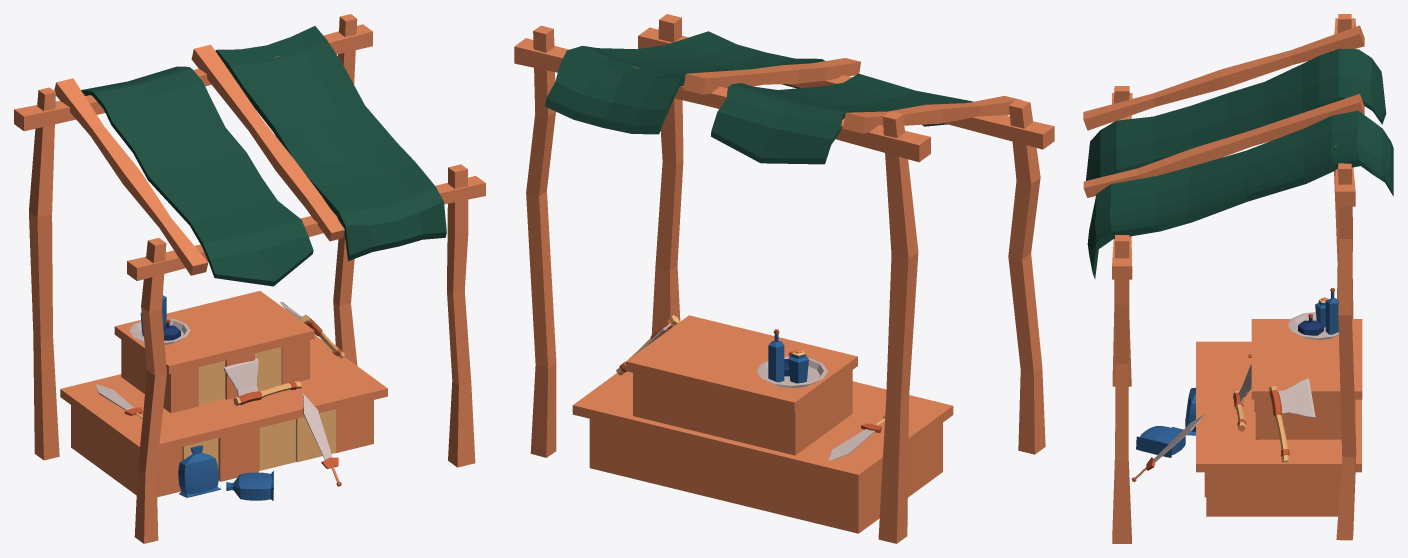
Rendered from ShopTent2.fbx.
The picture shows the model from 3 angles, left to right: view 1: azimuth 30°, elevation 25°; view 2: azimuth 150°, elevation 25°; view 3: azimuth 270°, elevation 25°; orthographic projection. The views are drawn at different scales.
Visible parts, largest first — view 1: Палатка 2; view 2: Палатка 2; view 3: Палатка 2.
Part boxes in pixels (x1,y1,x2,y2): Палатка 2: (14,14,485,543); Палатка 2: (514,14,1054,543); Палатка 2: (1083,14,1393,543).
Bounding box in the file's own units: 184 × 183 × 138.
